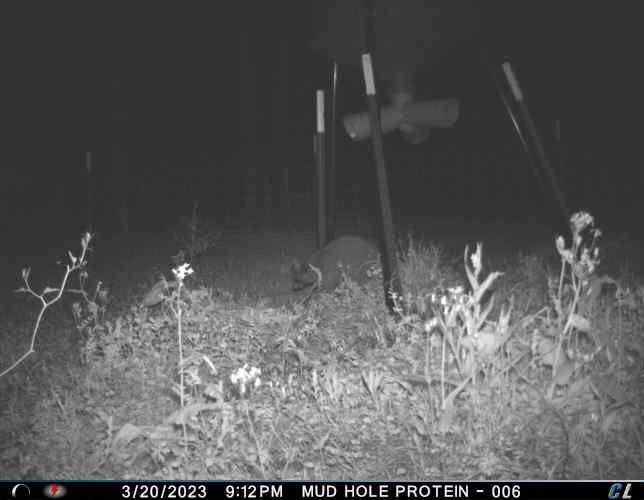Raccoon: (289, 233, 383, 300)
